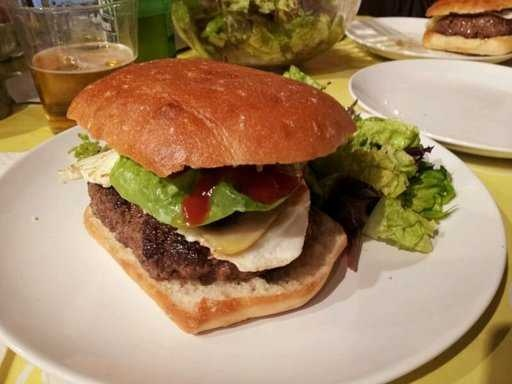hamburger: (42, 57, 390, 305)
